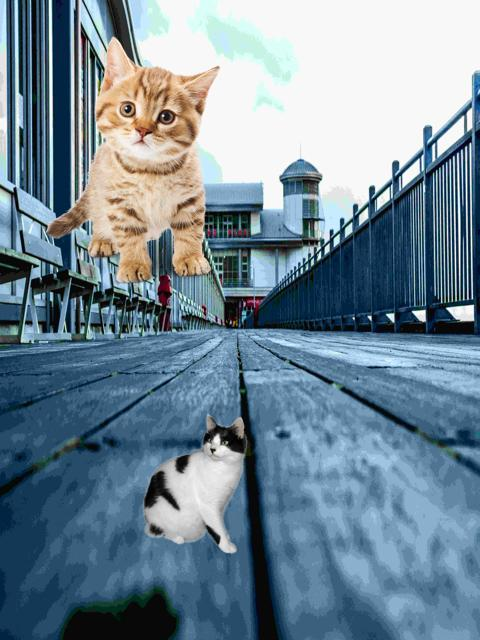cat: (23, 37, 242, 283), (143, 410, 248, 554)
